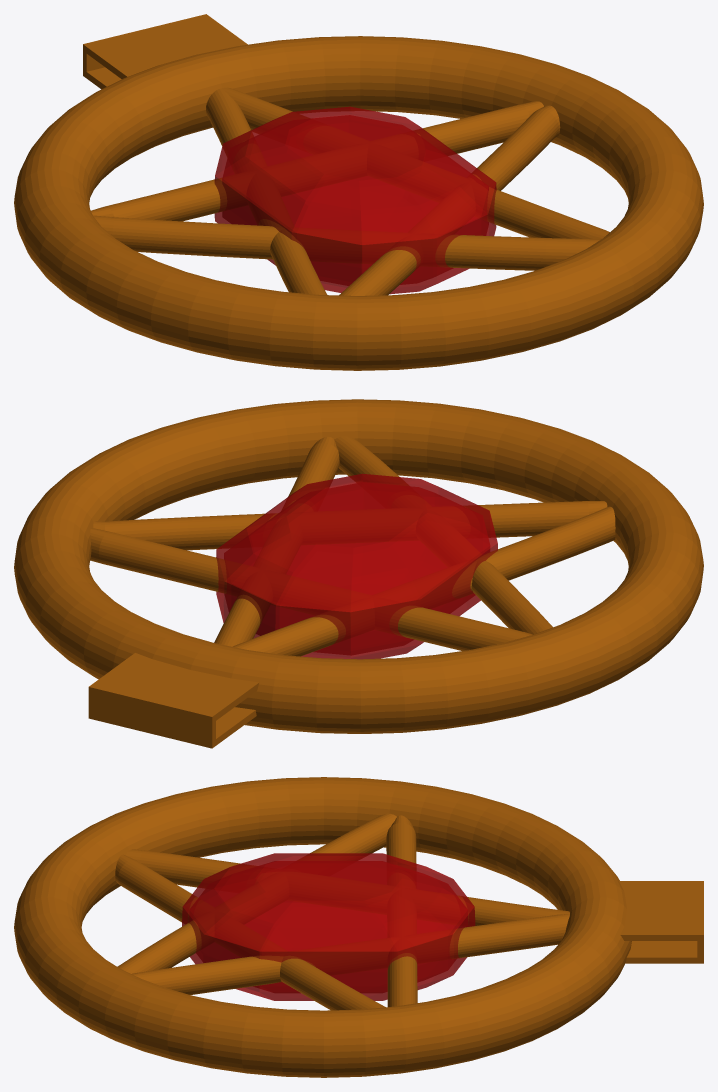
File: Joya1.obj
3 views of the same model, one above another, from view 1: azimuth 30°, elevation 25°; view 2: azimuth 150°, elevation 25°; view 3: azimuth 270°, elevation 25° (orthographic). The views are drawn at different scales.
Visible parts, largest first — view 1: BezierCircle, BezierCurve, Circle.002_Circle, Cube; view 2: BezierCircle, BezierCurve, Circle.002_Circle, Cube; view 3: BezierCircle, BezierCurve, Circle.002_Circle, Cube.
Part boxes in pixels (x1=…): BezierCircle: x1=14, y1=36, x2=703, y2=370; BezierCurve: x1=91, y1=87, x2=609, y2=295; Circle.002_Circle: x1=214, y1=106, x2=496, y2=294; Cube: x1=83, y1=14, x2=247, y2=89; BezierCircle: x1=14, y1=399, x2=703, y2=733; BezierCurve: x1=90, y1=436, x2=615, y2=656; Circle.002_Circle: x1=216, y1=473, x2=497, y2=659; Cube: x1=88, y1=653, x2=259, y2=748; BezierCircle: x1=14, y1=777, x2=631, y2=1077; BezierCurve: x1=115, y1=813, x2=569, y2=1010; Circle.002_Circle: x1=182, y1=853, x2=475, y2=1000; Cube: x1=619, y1=881, x2=703, y2=963.
Size of the model in its own units: 5.92 by 1.03 by 6.59.
